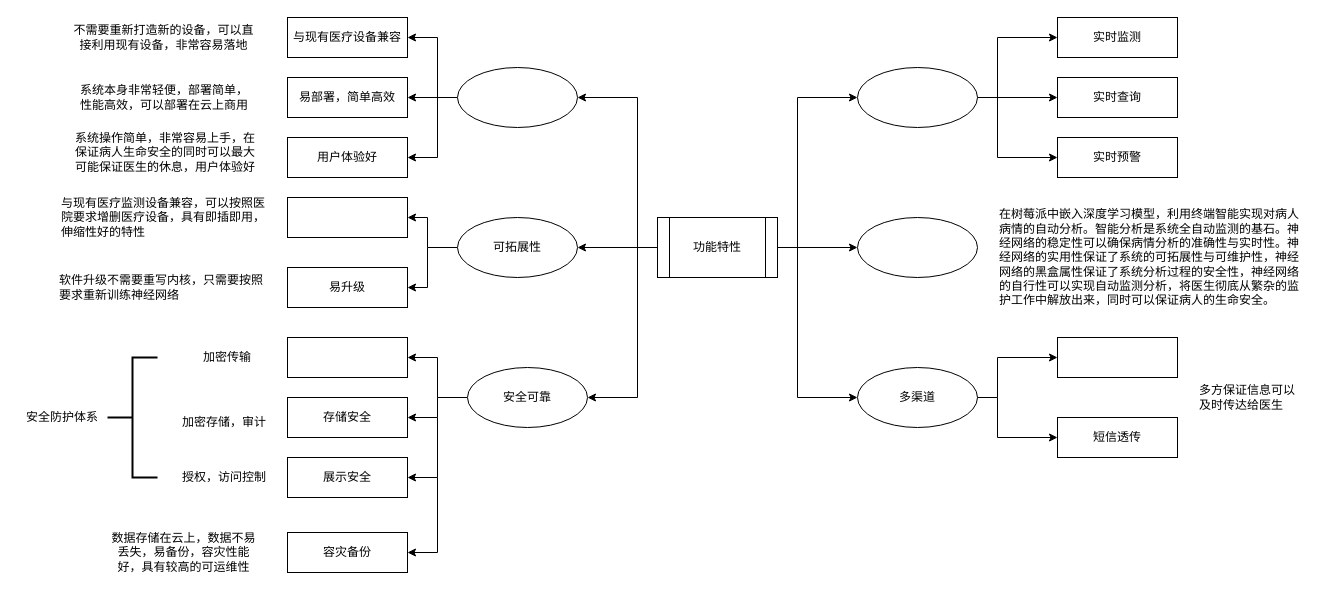
Some shapes in this 1324 by 591 pixel diagram are drawn without their labels. Each missing label, with the box of its shape:
APP: (1056, 336, 1178, 378)
传输安全: (286, 336, 408, 378)
伸缩性好: (286, 196, 408, 238)
实时性: (856, 66, 978, 128)
易落地: (456, 66, 578, 128)
智能分析: (856, 216, 978, 278)
